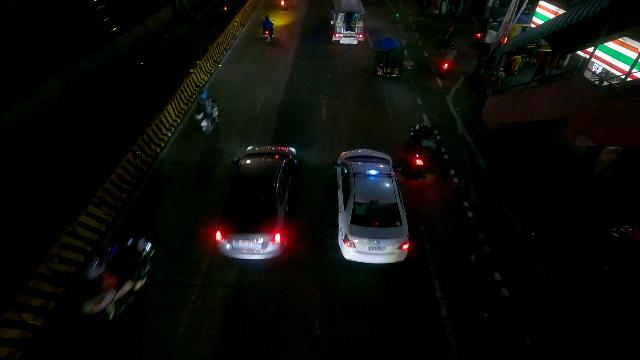car: (211, 141, 301, 264), (336, 148, 410, 263)
jeepney: (331, 0, 365, 44)
motorcycle: (405, 122, 437, 179), (195, 90, 218, 134), (262, 14, 274, 42)
